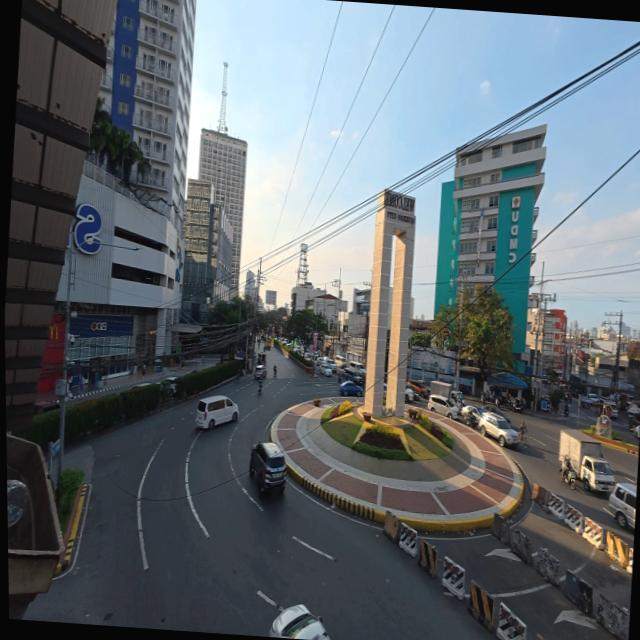car: (268, 605, 327, 639), (249, 442, 285, 493), (477, 412, 519, 446), (607, 482, 636, 529), (427, 395, 459, 418), (478, 405, 509, 425), (407, 379, 429, 398), (341, 367, 363, 384), (339, 381, 362, 397), (159, 377, 176, 395), (460, 405, 479, 421), (405, 382, 421, 399), (603, 403, 617, 419), (404, 387, 417, 402), (253, 365, 266, 379), (318, 362, 331, 376), (129, 382, 151, 390), (324, 358, 336, 372), (404, 387, 415, 402), (628, 417, 639, 431), (587, 393, 598, 403), (632, 425, 639, 439), (315, 357, 323, 366), (303, 353, 309, 361)
motorcycle: (559, 468, 575, 489), (465, 413, 476, 429), (479, 392, 492, 404), (510, 400, 522, 412), (257, 381, 262, 394), (563, 405, 568, 417), (272, 367, 276, 377)
trucks: (558, 429, 614, 491), (430, 381, 459, 404), (430, 381, 452, 398)
vans: (195, 396, 237, 428), (347, 361, 365, 375), (334, 355, 345, 368)
